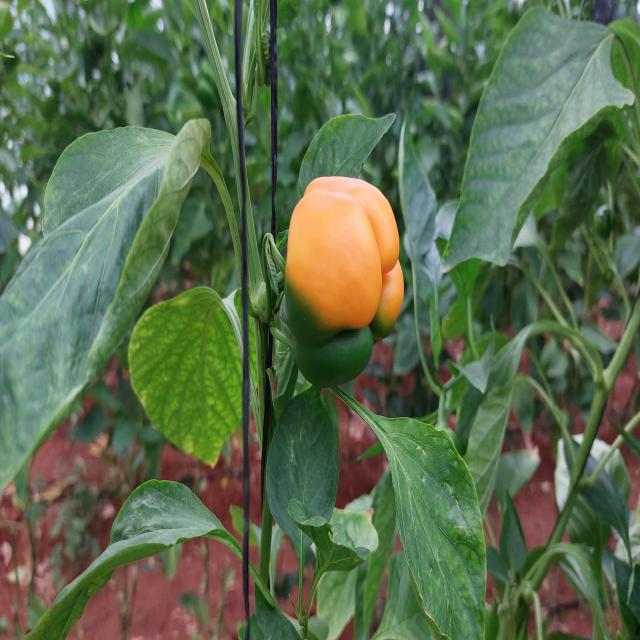Yellow-Ready-to-Harvest: (286, 163, 409, 344)
